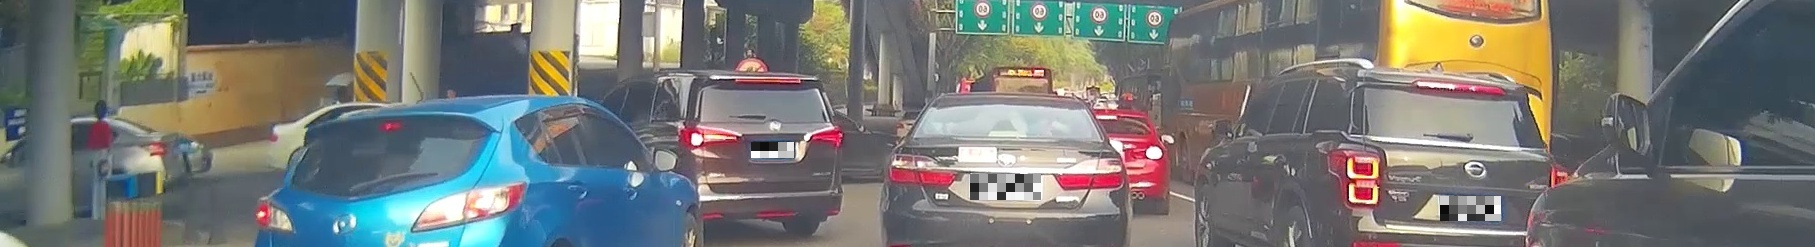L_light: (1327, 148, 1381, 209), (887, 154, 955, 187), (256, 199, 295, 233), (686, 128, 743, 148)
R_light: (410, 181, 527, 232), (1055, 158, 1123, 191), (806, 126, 842, 145), (1550, 164, 1567, 186)
T_light: (1416, 80, 1506, 96), (737, 78, 801, 83), (998, 99, 1026, 104), (379, 122, 401, 129)
day-brake: (1323, 73, 1568, 247), (253, 102, 530, 247), (683, 75, 842, 237)
day-no: (881, 93, 1133, 247)
plate_1: (751, 141, 794, 158)
plate_2: (970, 174, 1041, 199)
plate_3: (1440, 196, 1501, 221)
